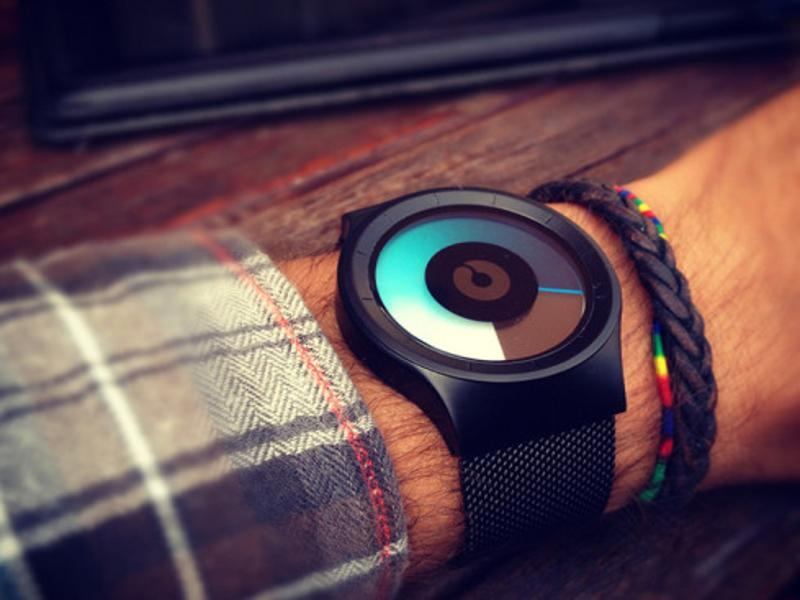watch: (337, 187, 627, 564)
